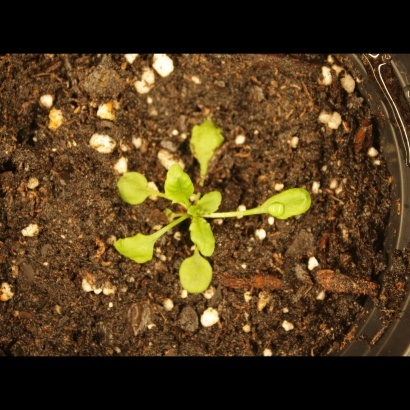leaf: (254, 184, 320, 225), (186, 115, 230, 175), (108, 231, 161, 270), (177, 248, 215, 301), (113, 166, 154, 210), (162, 161, 196, 211), (187, 217, 220, 260), (198, 188, 225, 214)
